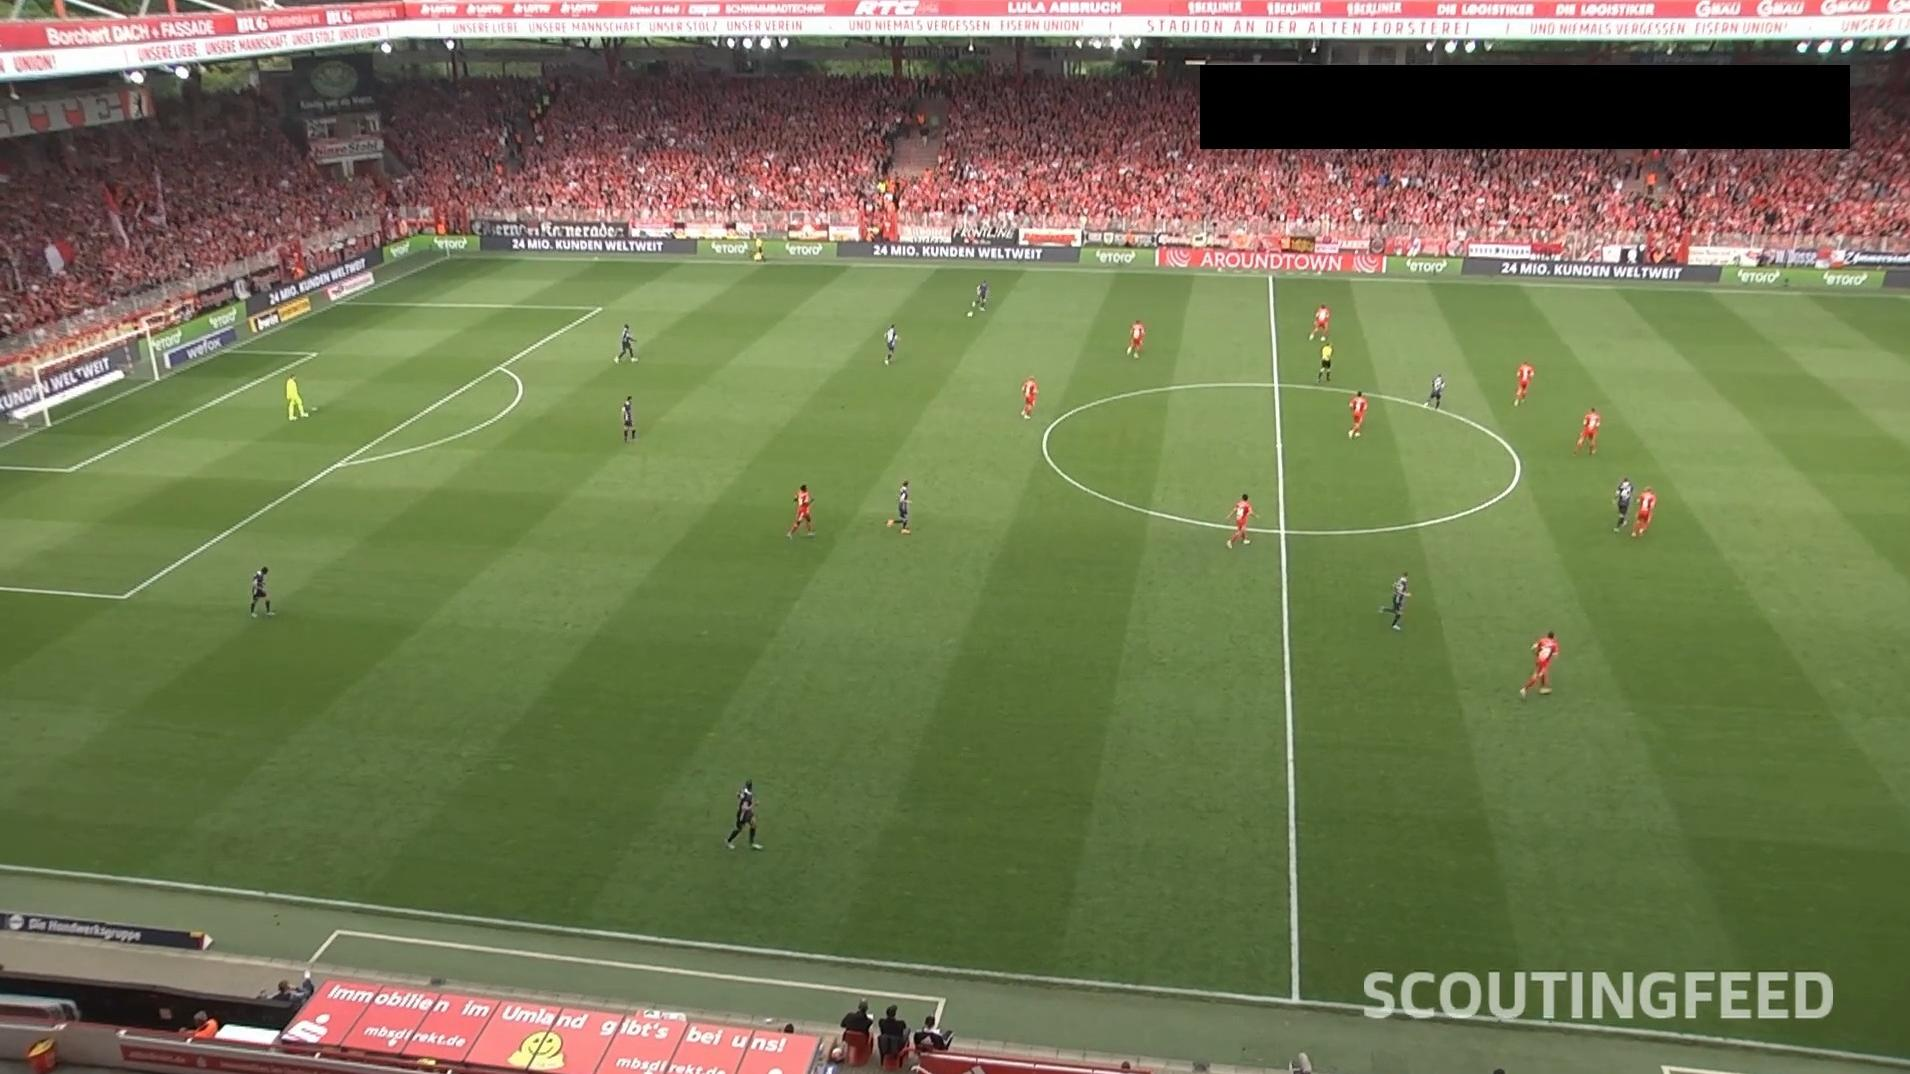ball: (965, 308, 975, 319)
